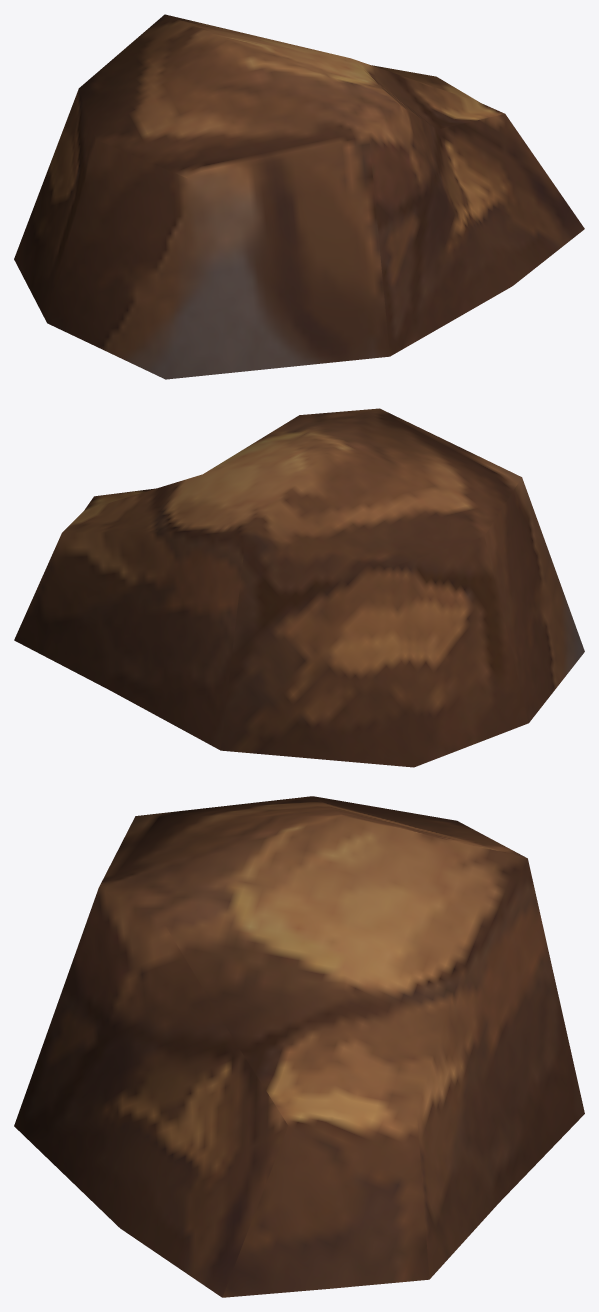
Rendered from ShiTou05.FBX.
The picture shows the model from 3 angles, top to bottom: view 1: azimuth 30°, elevation 25°; view 2: azimuth 150°, elevation 25°; view 3: azimuth 270°, elevation 25°; orthographic projection. The views are drawn at different scales.
Visible parts, largest first — view 1: ShiTou05; view 2: ShiTou05; view 3: ShiTou05.
Part boxes in pixels (x1,y1,x2,y2): ShiTou05: [14, 14, 584, 379]; ShiTou05: [14, 408, 584, 767]; ShiTou05: [14, 796, 584, 1297].
Size of the model in its own units: 117 by 51.03 by 90.91.
